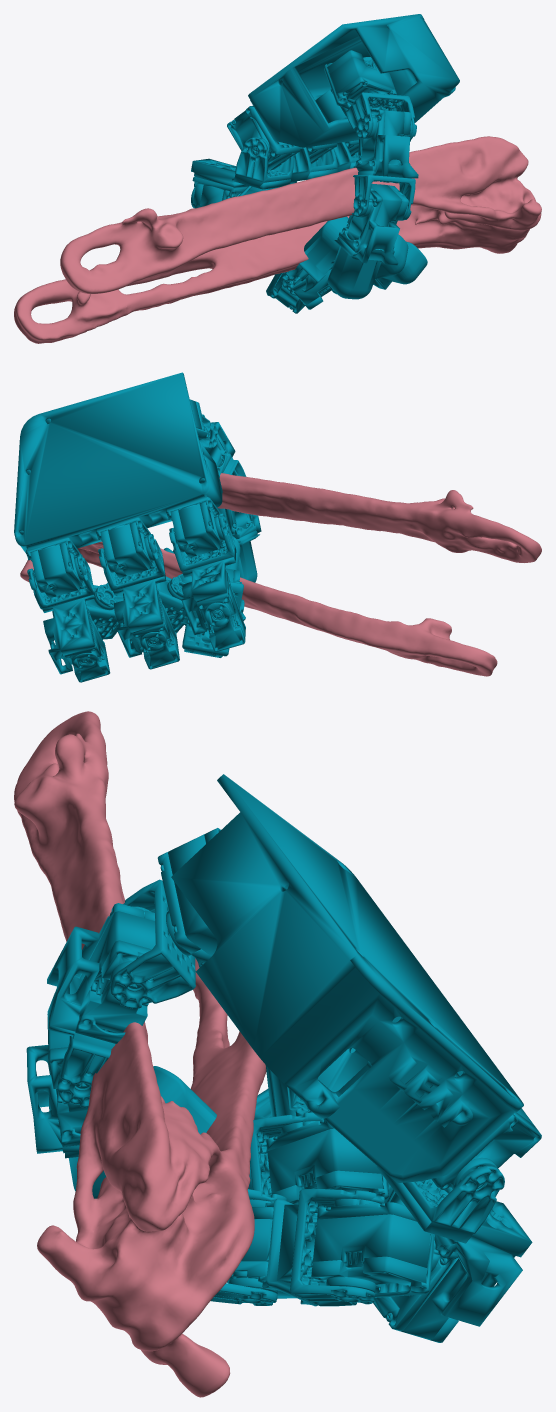
3 renders of one model, top to bottom at view 1: azimuth 30°, elevation 25°; view 2: azimuth 150°, elevation 25°; view 3: azimuth 270°, elevation 25°, orthographic. The views are drawn at different scales.
Parts seen in each view (by area): view 1: world; view 2: world; view 3: world.
Part boxes in pixels (x1,y1,x2,y2): world: [14, 14, 541, 343]; world: [14, 372, 541, 682]; world: [14, 711, 541, 1397].
Size of the model in its own units: 0.3363 by 0.1881 by 0.1705.
